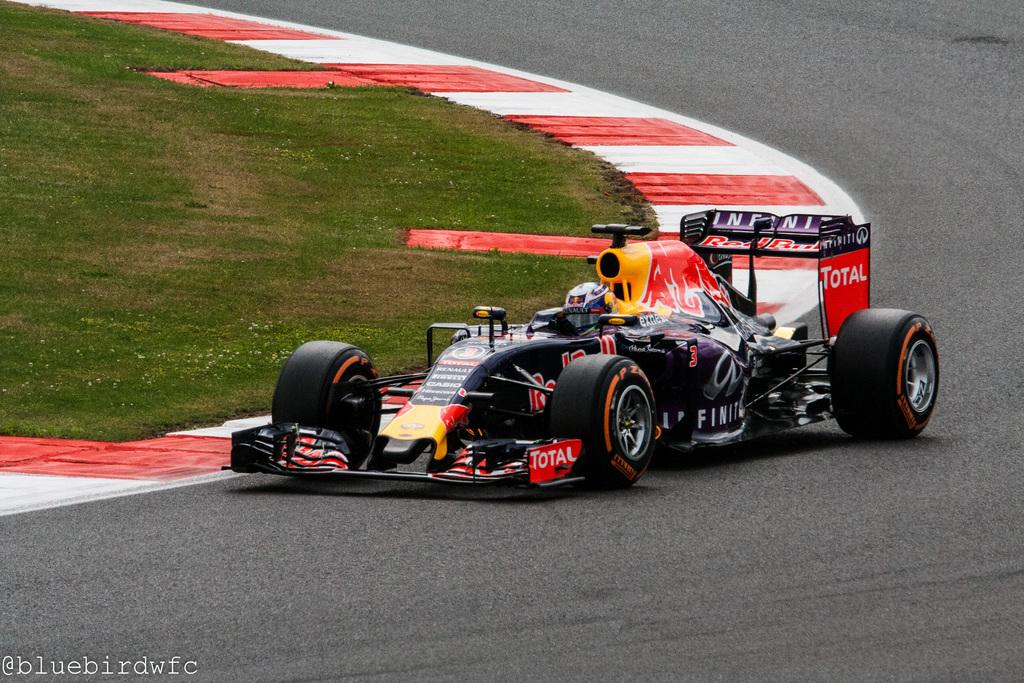helmet: (563, 282, 620, 341)
